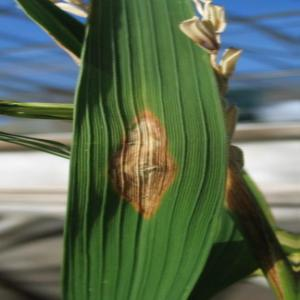Rice_Blast: (105, 99, 189, 246)
